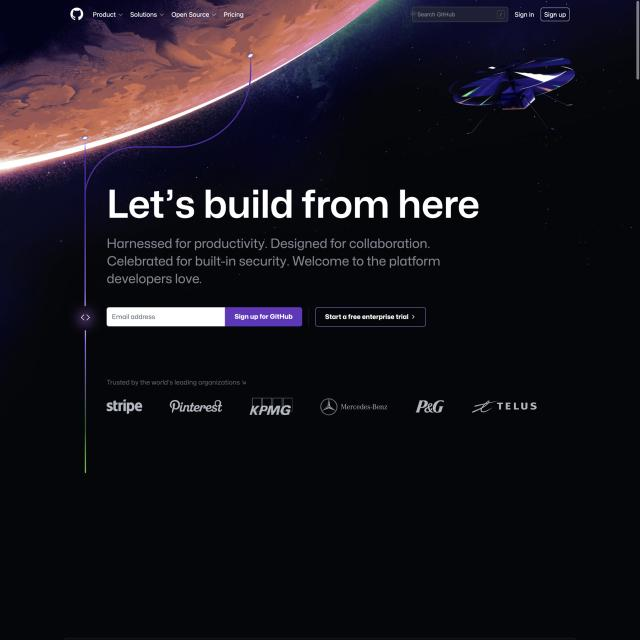CheckBox: (314, 306, 427, 328), (225, 307, 304, 328), (540, 6, 571, 22), (513, 8, 535, 21)
CheckedTextView: (107, 307, 225, 327), (411, 6, 509, 22)
Input field: (102, 235, 447, 288)
alert: (170, 9, 218, 22), (90, 8, 125, 21), (128, 8, 165, 20)
card: (1, 0, 640, 640)
carousel: (497, 9, 506, 19)
date picker: (319, 396, 389, 416), (472, 398, 539, 416), (245, 395, 296, 417), (168, 398, 224, 415), (100, 399, 144, 415), (414, 397, 446, 416), (68, 6, 83, 23)
decoration: (91, 8, 248, 21)
footer: (111, 313, 158, 322), (417, 10, 456, 18)
image: (104, 187, 487, 227)
